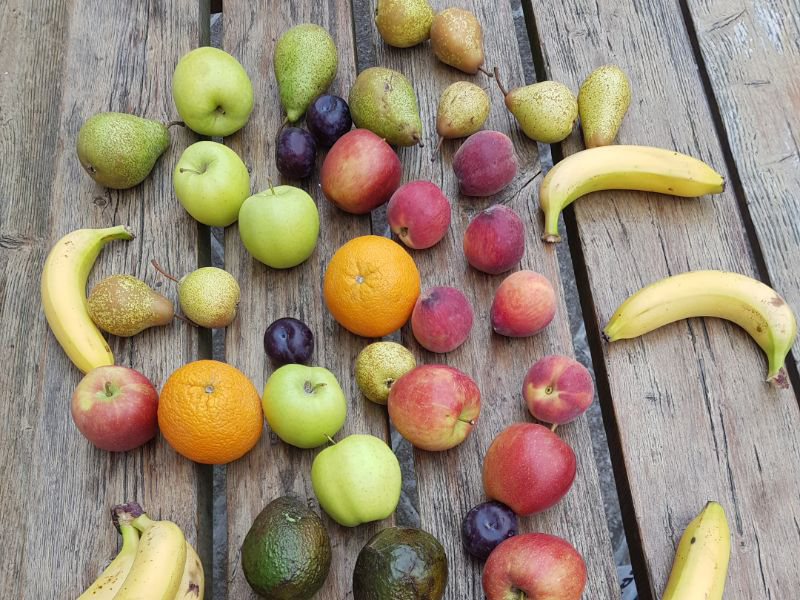avocado: (234, 491, 331, 600)
banana: (598, 264, 799, 389)
